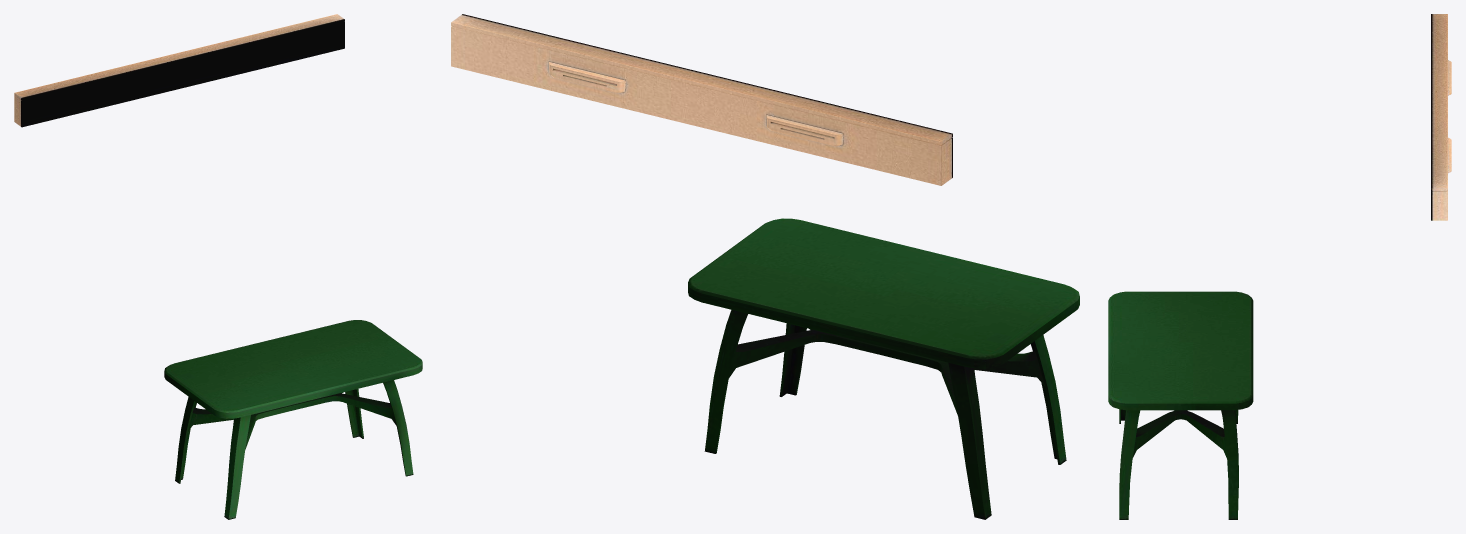
Rendered from SM_LivR_F1.glb.
3 views of the same model, side by side, from view 1: azimuth 30°, elevation 25°; view 2: azimuth 150°, elevation 25°; view 3: azimuth 270°, elevation 25° (orthographic). The views are drawn at different scales.
Visible parts, largest first — view 1: SM_LivR_F1; view 2: SM_LivR_F1; view 3: SM_LivR_F1.
Boxes of the visible parts, x1,y1,x2,y2 form: SM_LivR_F1: [14, 14, 422, 519]; SM_LivR_F1: [451, 14, 1079, 519]; SM_LivR_F1: [1108, 14, 1451, 519].
Bounding box in the file's own units: 2.44 × 2.41 × 2.02.
Materials: 1 (1 with a texture image).
